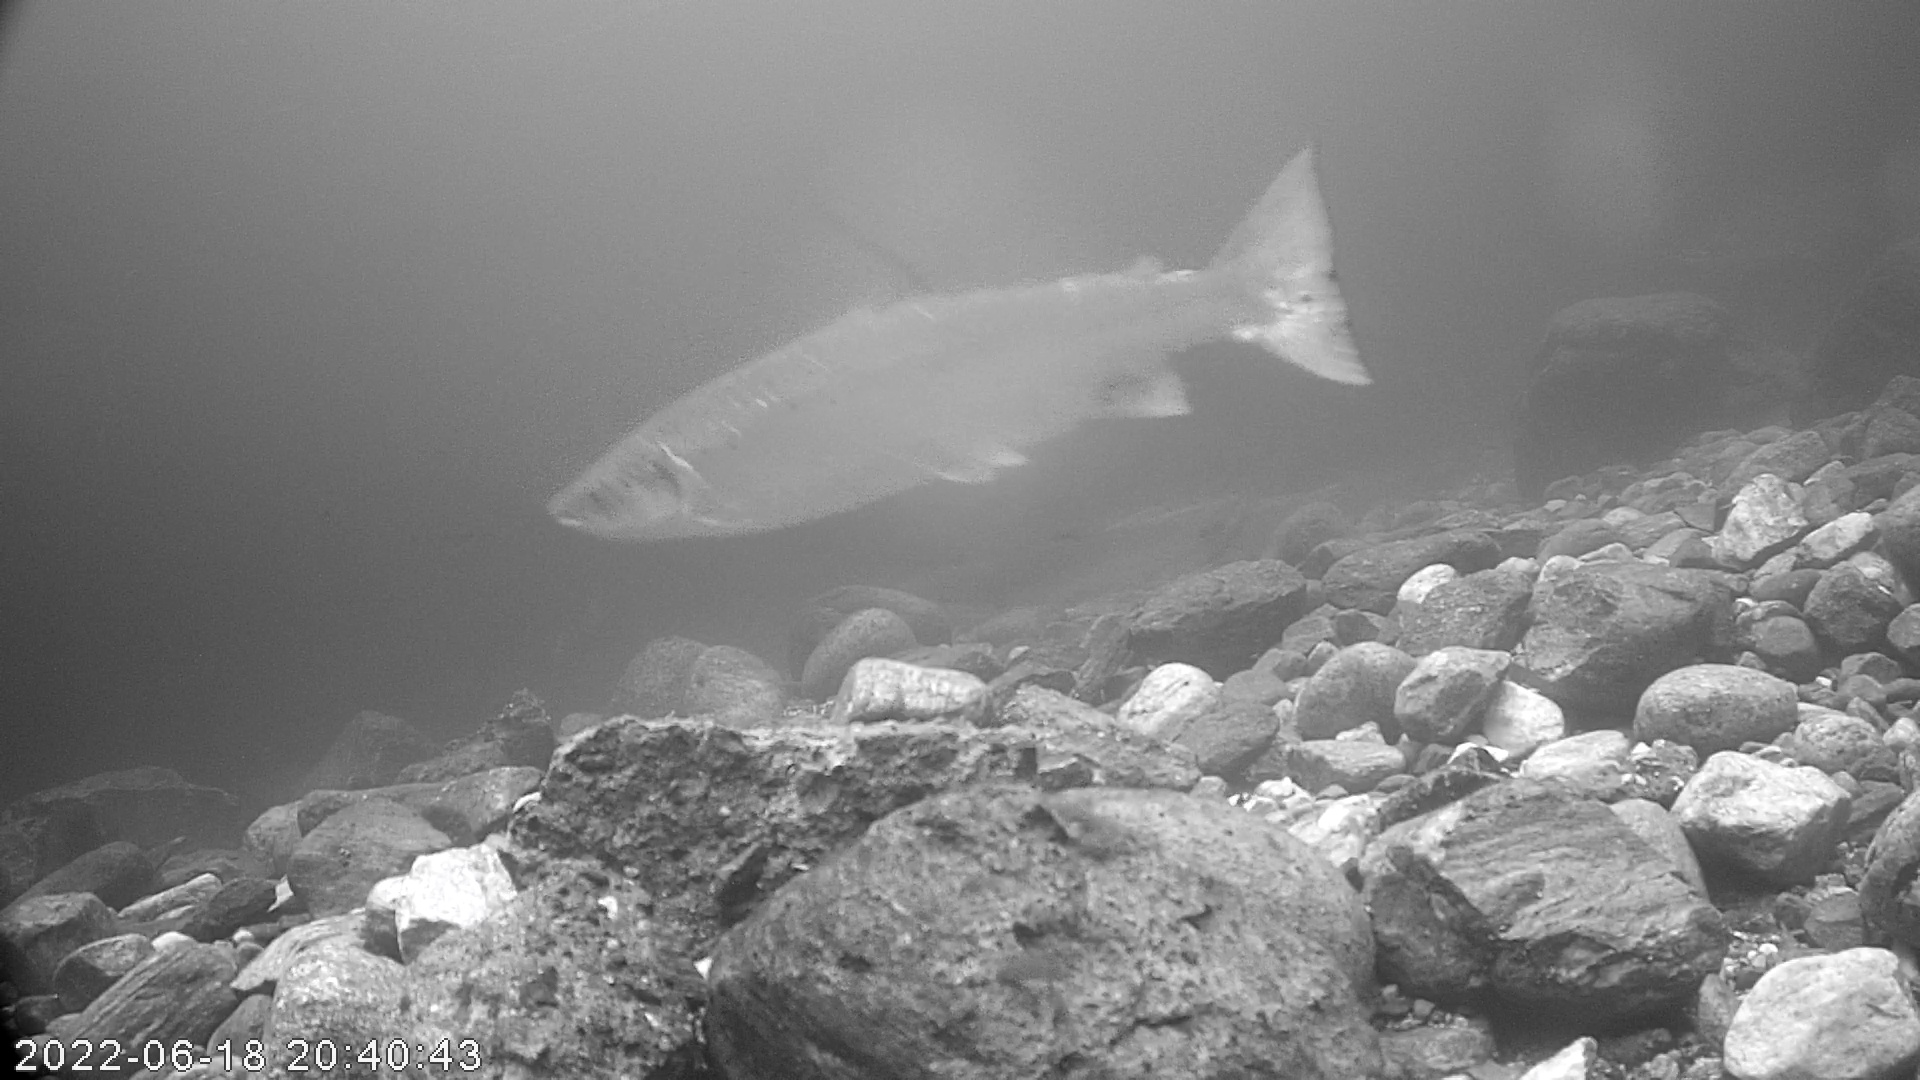salmon: (542, 135, 1377, 545)
